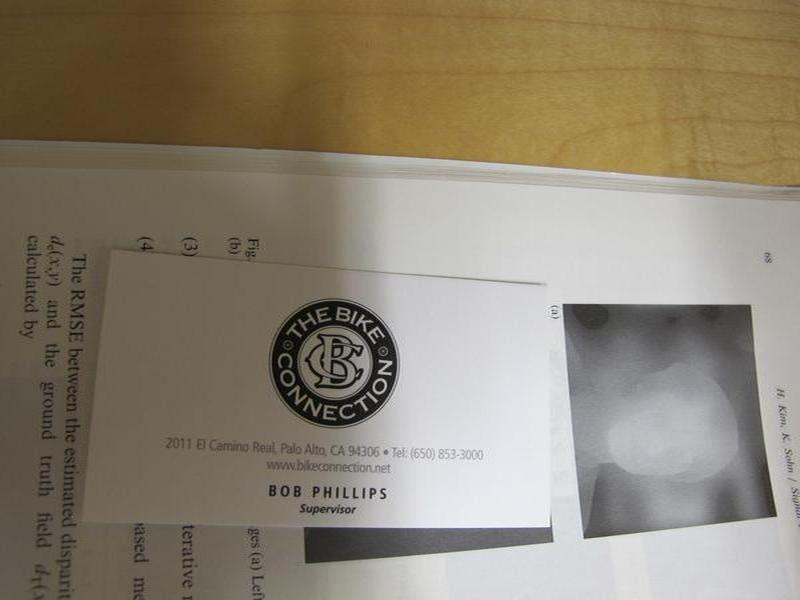card: (86, 249, 564, 539)
